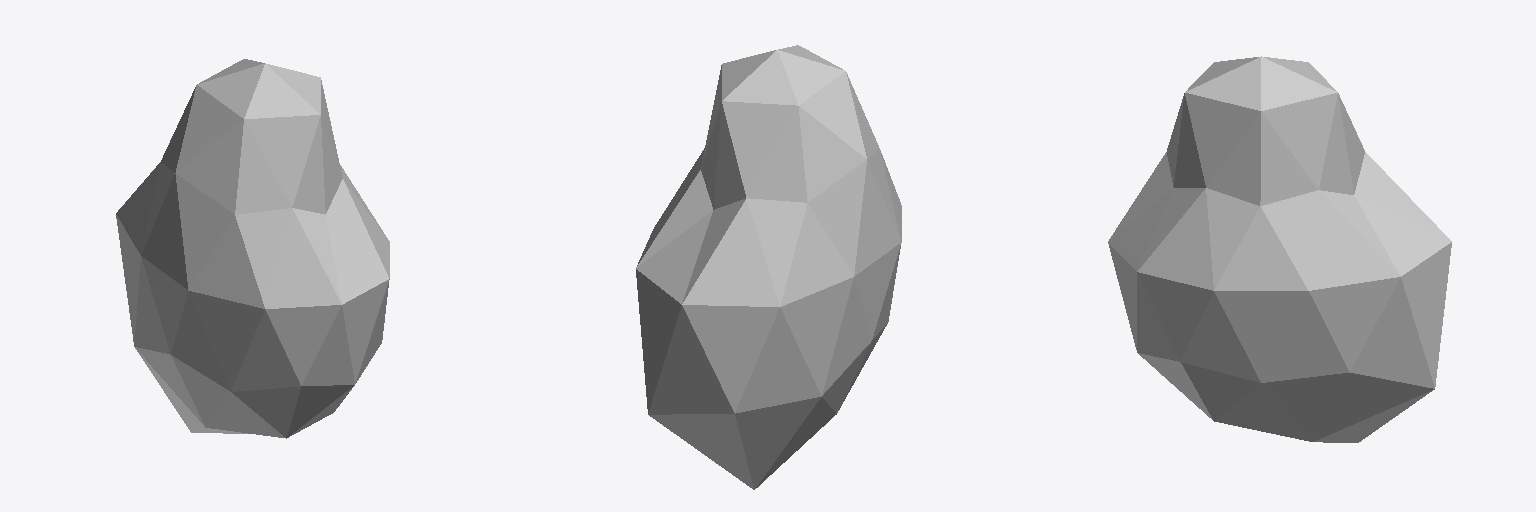
The model's file is meat 1.obj.
3 renders of one model, left to right at view 1: azimuth 30°, elevation 25°; view 2: azimuth 150°, elevation 25°; view 3: azimuth 270°, elevation 25°, orthographic.
Parts seen in each view (by area): view 1: Icosphere; view 2: Icosphere; view 3: Icosphere.
Boxes of the visible parts, <box> form: Icosphere: <box>116,59,389,438</box>; Icosphere: <box>636,45,901,489</box>; Icosphere: <box>1108,56,1451,442</box>.
Bounding box in the file's own units: 1.9 × 3.61 × 2.82.